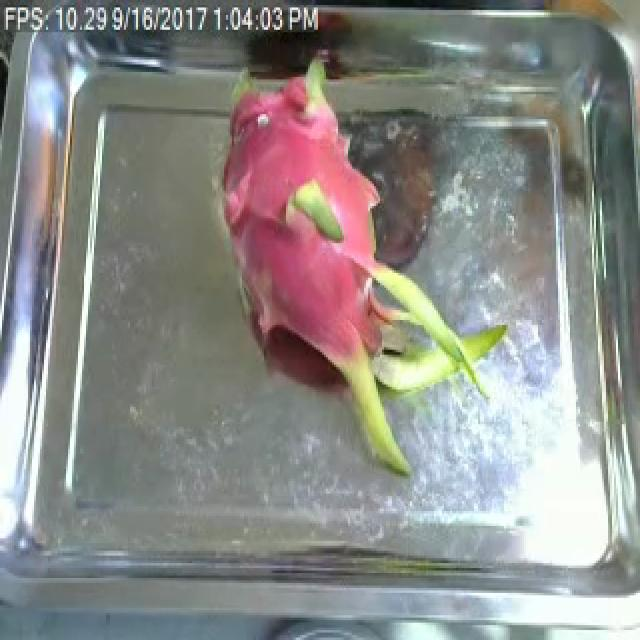fruit: (212, 70, 514, 486)
